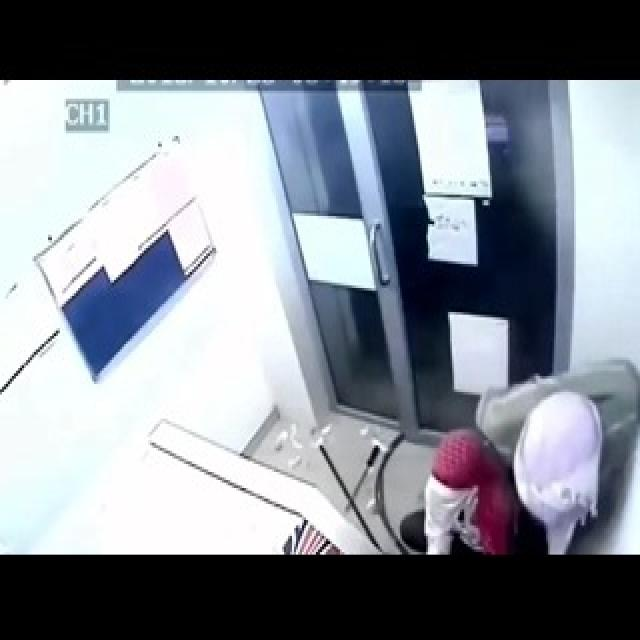thief: (408, 360, 640, 554)
